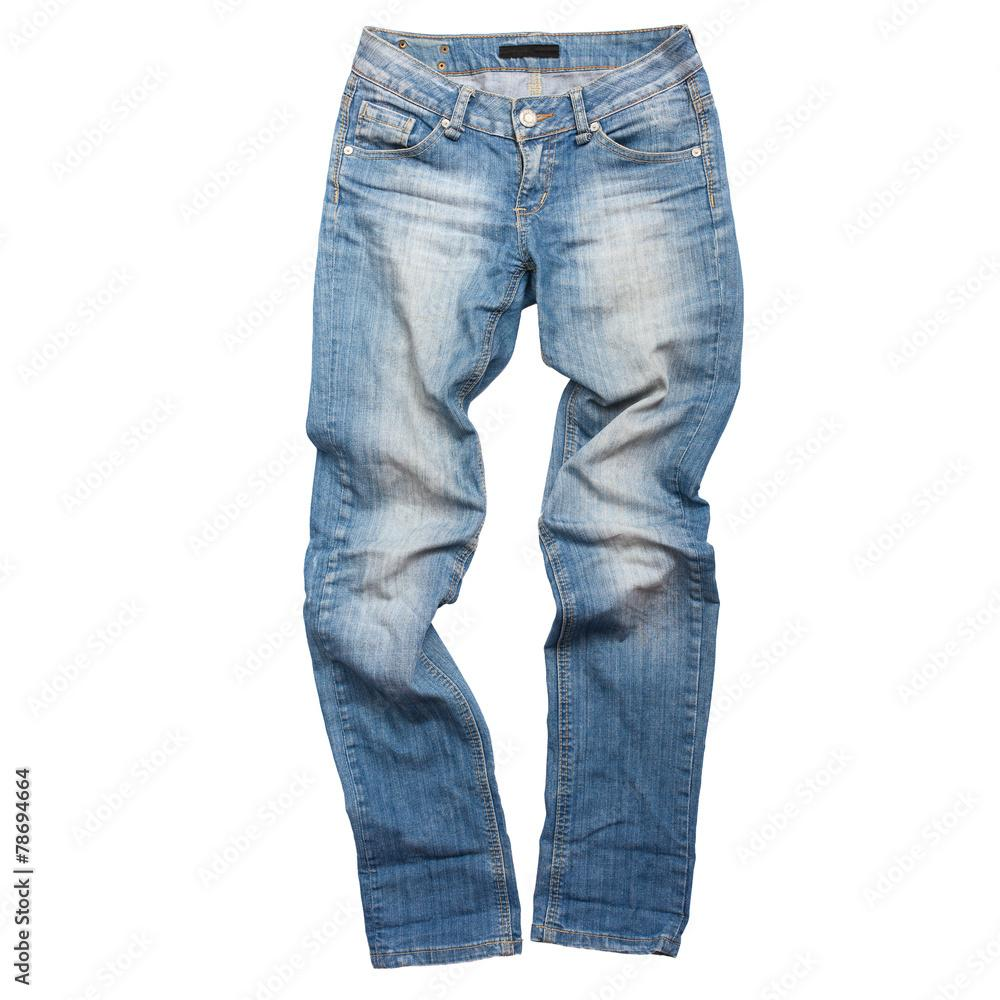Jeans: (282, 14, 756, 978)
